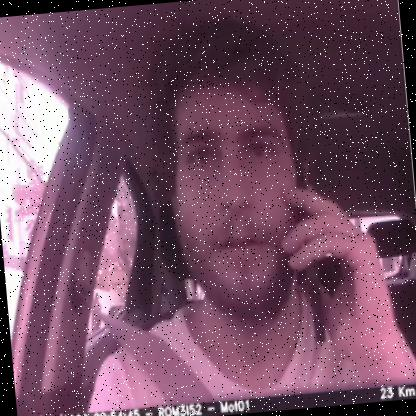phone: (286, 170, 356, 348)
